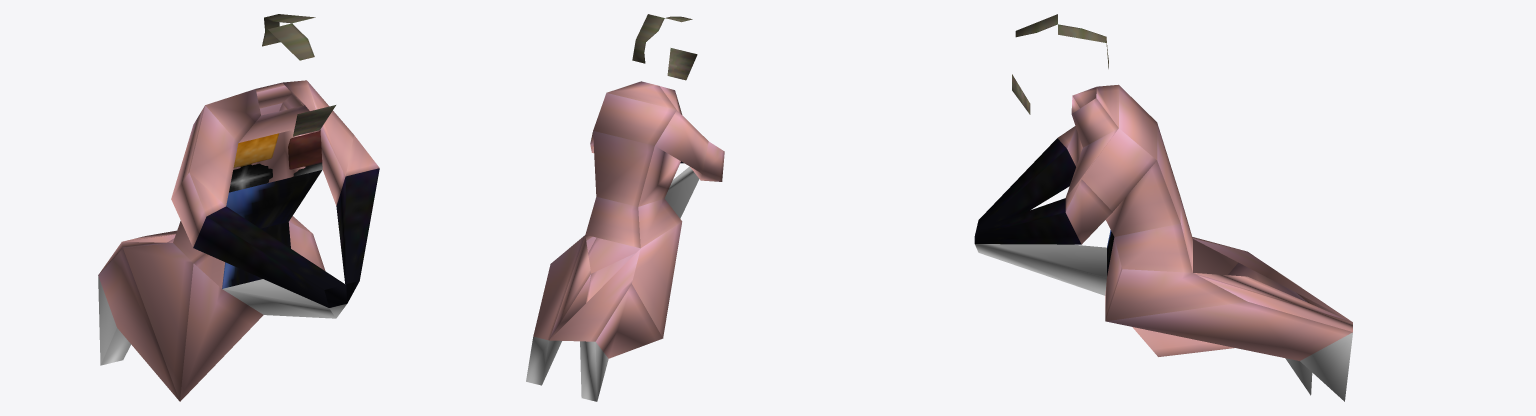
3 renders of one model, left to right at view 1: azimuth 30°, elevation 25°; view 2: azimuth 150°, elevation 25°; view 3: azimuth 270°, elevation 25°, orthographic. The views are drawn at different scales.
Parts seen in each view (by area): view 1: T1L9M005_18; view 2: T1L9M005_18; view 3: T1L9M005_18.
Boxes of the visible parts, x1,y1,x2,y2 form: T1L9M005_18: (98, 14, 379, 401); T1L9M005_18: (526, 14, 724, 401); T1L9M005_18: (974, 14, 1352, 401).
Size of the model in its own units: 0.4805 by 1.1 by 1.87.
